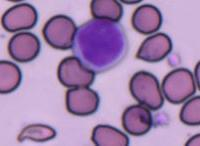L: (72, 17, 128, 73)
